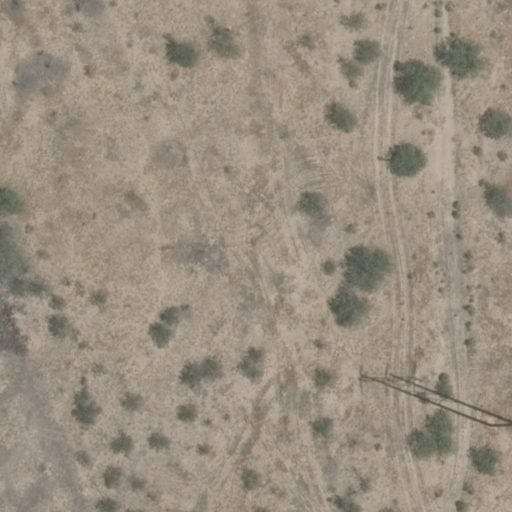TT: (362, 367, 510, 432)
